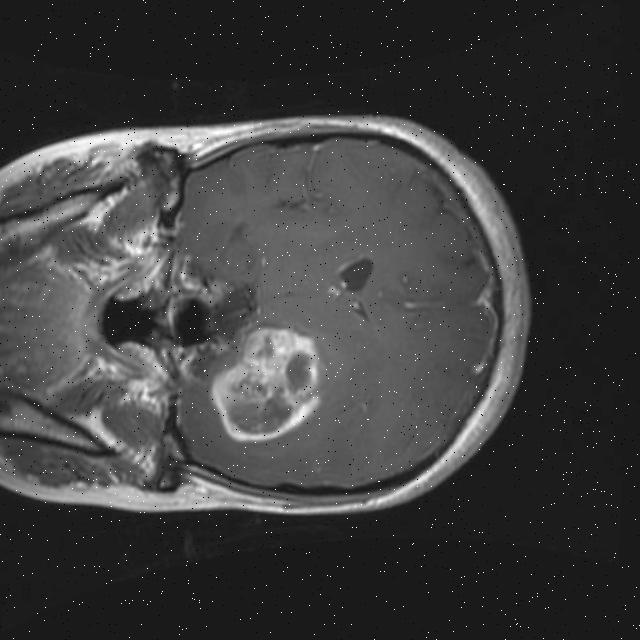Glioma: (203, 319, 328, 448)
